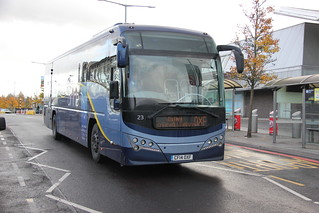bus: (42, 22, 226, 168)
